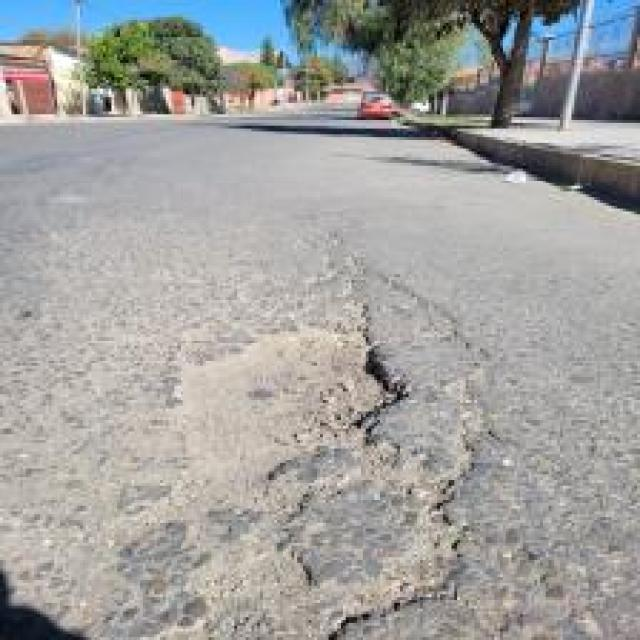BACHE: (180, 324, 400, 488)
PIEL DE COCODRILO: (18, 373, 532, 639)
